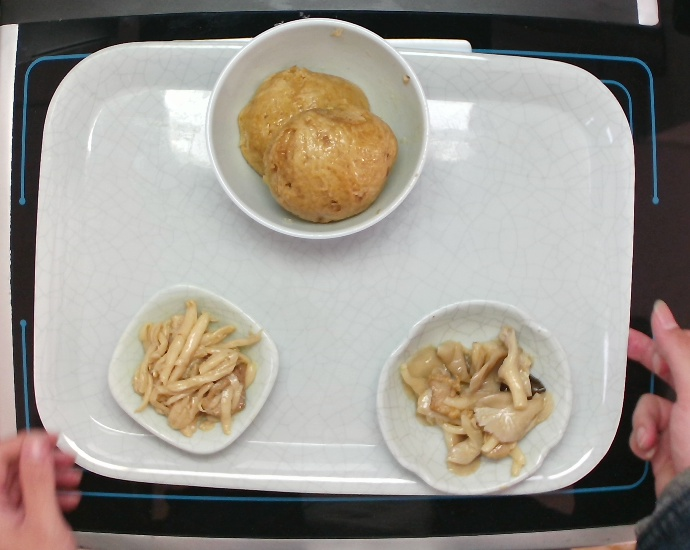JYsf-Ao_Yuan_Wan: (375, 296, 578, 502)
JYsf-Fan_Wan: (204, 16, 428, 244)
JYsf-Si_Fang_Die: (105, 285, 283, 460)
